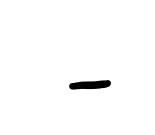minus: (67, 79, 112, 89)
